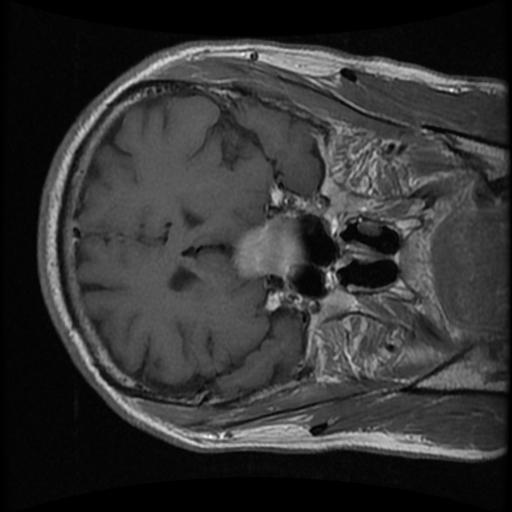pituitary tumour: (231, 210, 305, 282)
